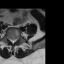CCS_normal: (12, 38, 13, 45)
LFS_normal: (15, 36, 17, 43)
LLS_normal: (13, 37, 15, 44)
RFS_stenosis: (8, 35, 10, 42)
RLS_normal: (10, 37, 12, 44)
